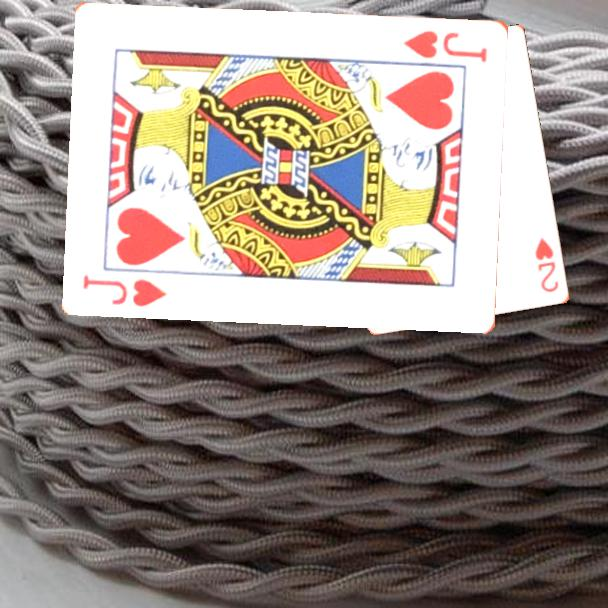h02: (532, 234, 562, 295)
h11: (400, 26, 490, 65), (80, 270, 170, 309)
